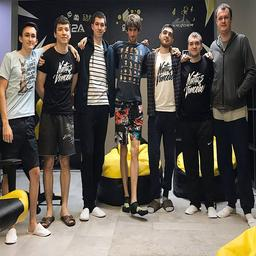person: (205, 3, 256, 229), (1, 22, 50, 245), (35, 16, 79, 226), (109, 14, 150, 216), (173, 32, 216, 219), (76, 11, 111, 221), (143, 24, 180, 212)
